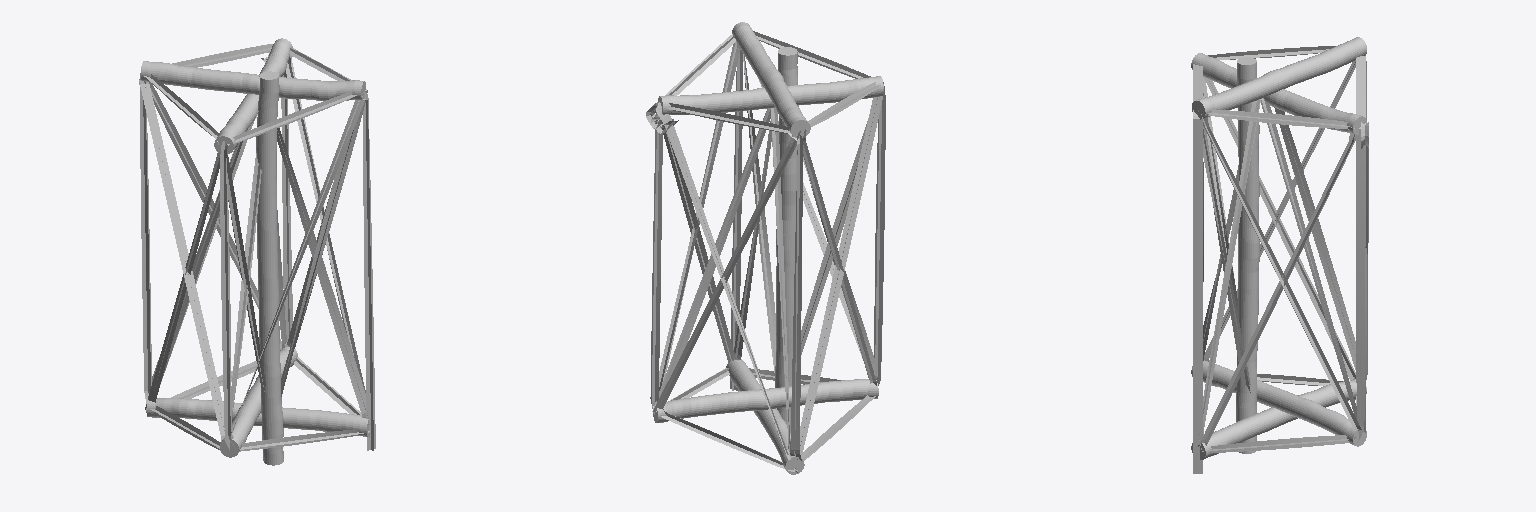
The model's file is WireObstacle2.obj.
The picture shows the model from 3 angles: view 1: azimuth 30°, elevation 25°; view 2: azimuth 150°, elevation 25°; view 3: azimuth 270°, elevation 25°; orthographic projection.
Parts seen in each view (by area): view 1: Object_16, Object_14, Object_15; view 2: Object_16, Object_14, Object_15; view 3: Object_16, Object_14, Object_15.
Boxes of the visible parts, x1=… form: Object_16: x1=139, y1=44, x2=375, y2=451; Object_14: x1=141, y1=38, x2=368, y2=465; Object_15: x1=214, y1=71, x2=369, y2=457; Object_16: x1=646, y1=31, x2=885, y2=472; Object_14: x1=657, y1=22, x2=883, y2=468; Object_15: x1=653, y1=47, x2=810, y2=474; Object_16: x1=1193, y1=46, x2=1368, y2=473; Object_14: x1=1191, y1=37, x2=1366, y2=458; Object_15: x1=1191, y1=57, x2=1366, y2=459.
Bounding box in the file's own units: 0.8119 × 1.9 × 0.7888.